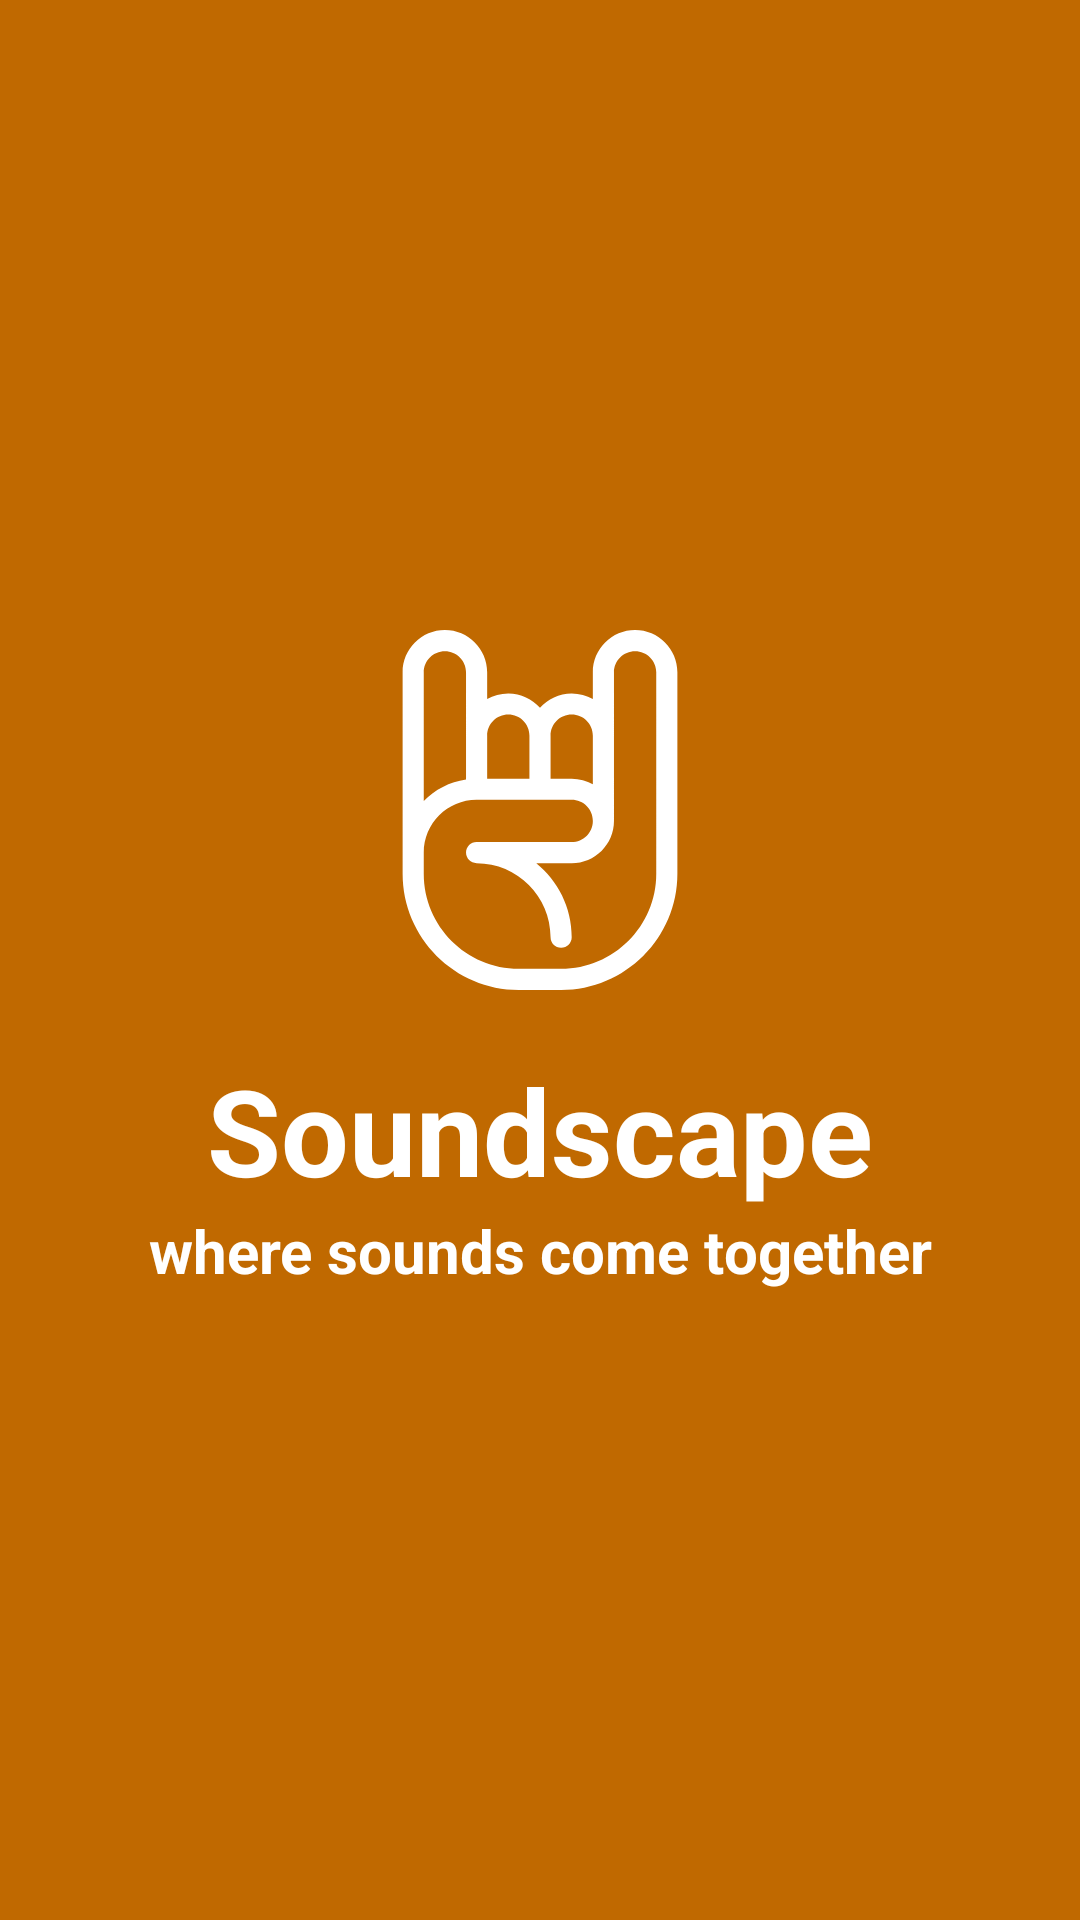

Where icons sit on this 1080 x 1920 app screen, as detection(x1, y1, x2, y2):
hand: detection(402, 630, 678, 990)
